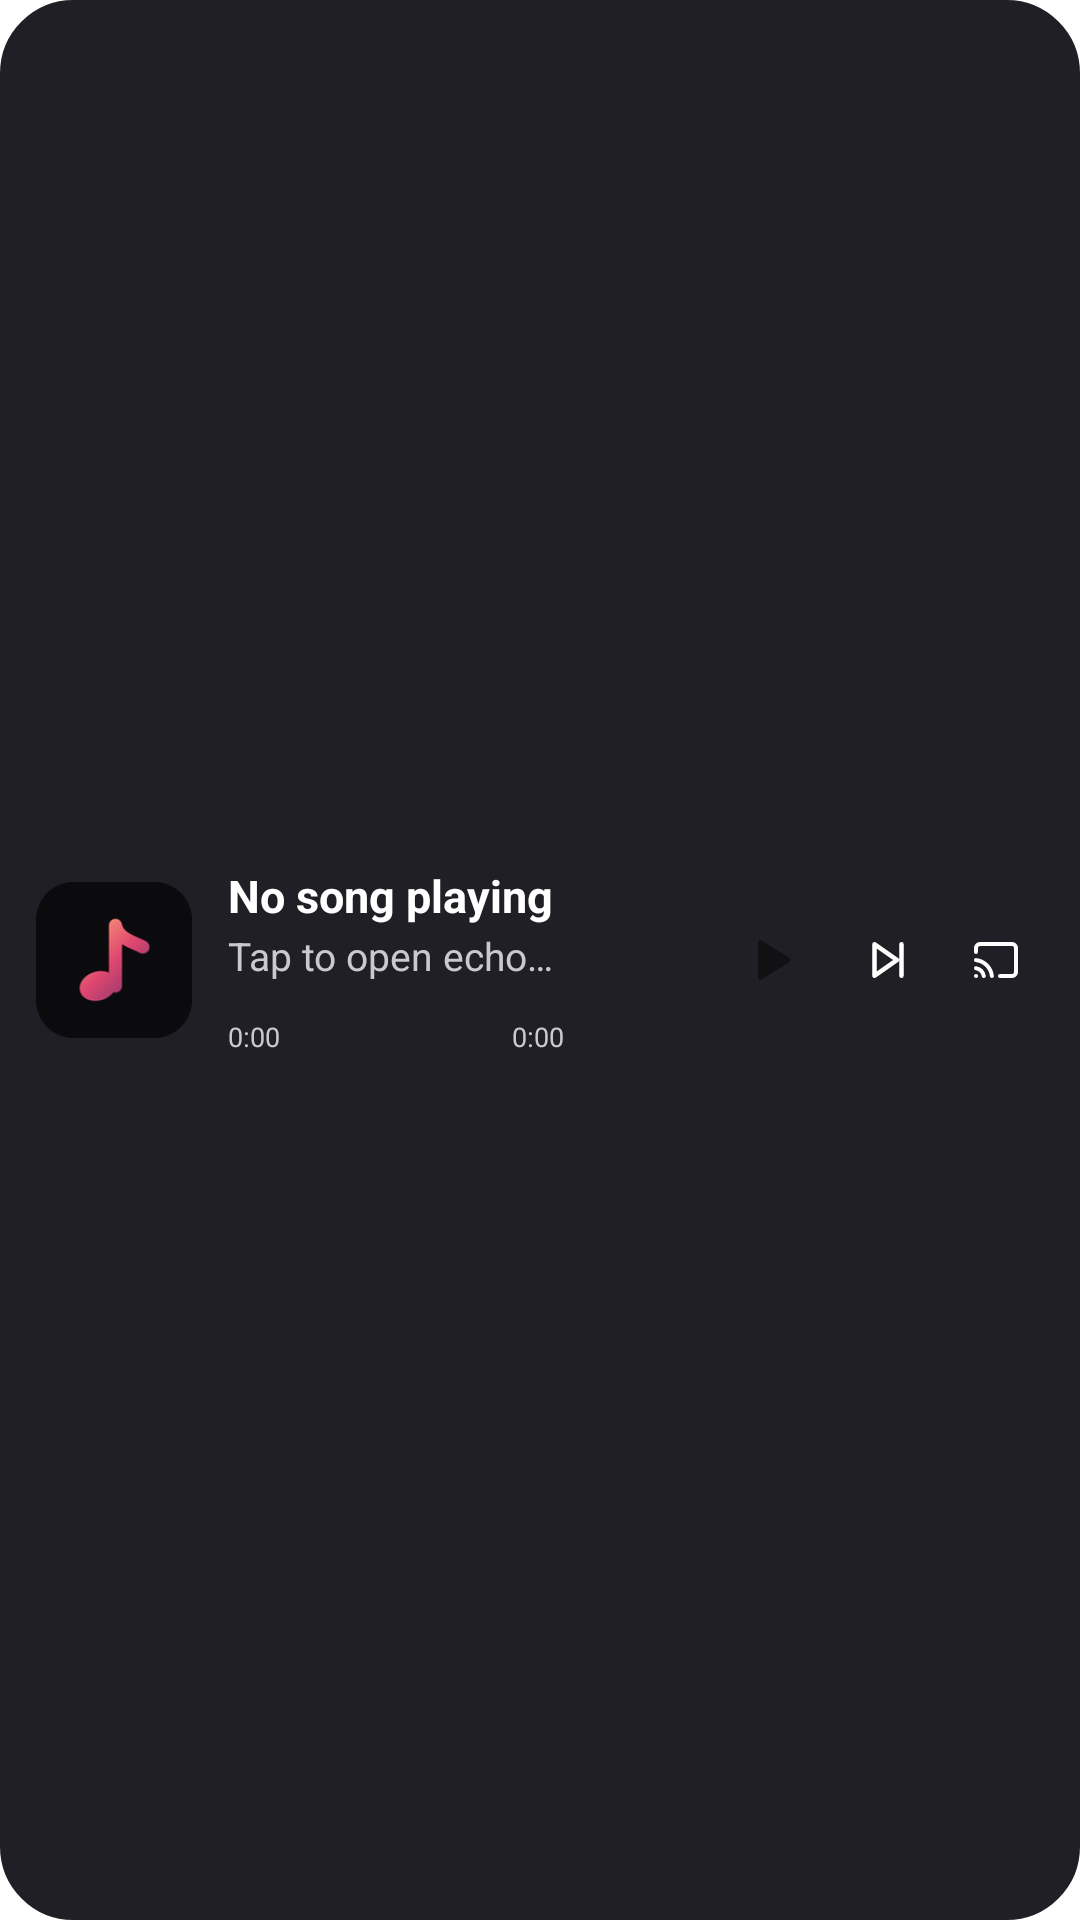

Screen size 1080 × 1920. Icon name, then its center in pixels as (x,y):
Cast: (996,960)
Next: (888,960)
